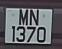0: (37, 26, 48, 44)
1: (11, 25, 18, 45)
3: (16, 26, 27, 44)
7: (26, 25, 38, 45)
M: (18, 9, 30, 27)
N: (30, 8, 40, 27)
